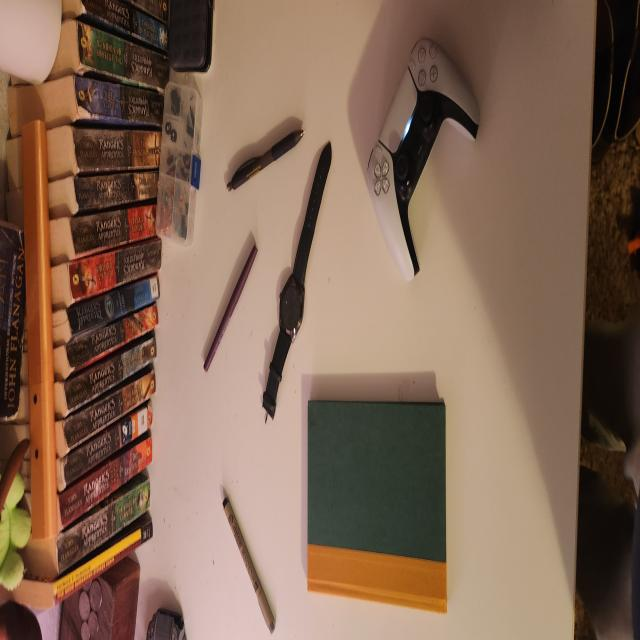Book: (303, 376, 451, 612)
Controller: (374, 38, 479, 275)
Watch: (263, 145, 332, 419)
